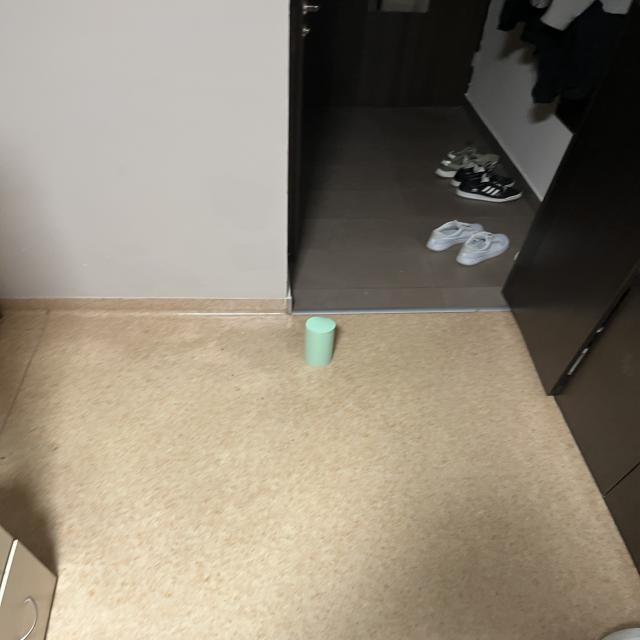meta: (305, 316, 336, 367)
